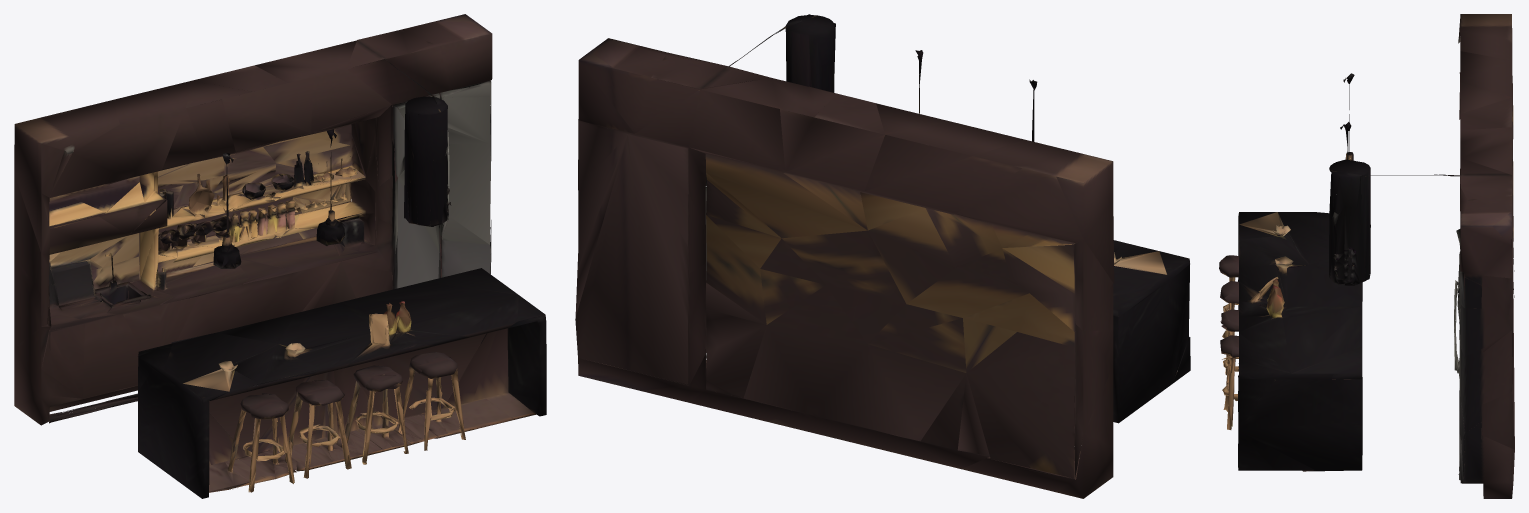
File: World6cccc38d17.glb
3 views of the same model, side by side, from view 1: azimuth 30°, elevation 25°; view 2: azimuth 150°, elevation 25°; view 3: azimuth 270°, elevation 25° (orthographic). The views are drawn at different scales.
Parts seen in each view (by area): view 1: World6cccc38d17; view 2: World6cccc38d17; view 3: World6cccc38d17.
Boxes of the visible parts, box(x1,y1,x2,y2) form: World6cccc38d17: box(14, 14, 546, 498); World6cccc38d17: box(575, 14, 1190, 498); World6cccc38d17: box(1219, 14, 1514, 498).
Size of the model in its own units: 3.61 by 2.2 by 2.12.
1 material, 1 textured.
